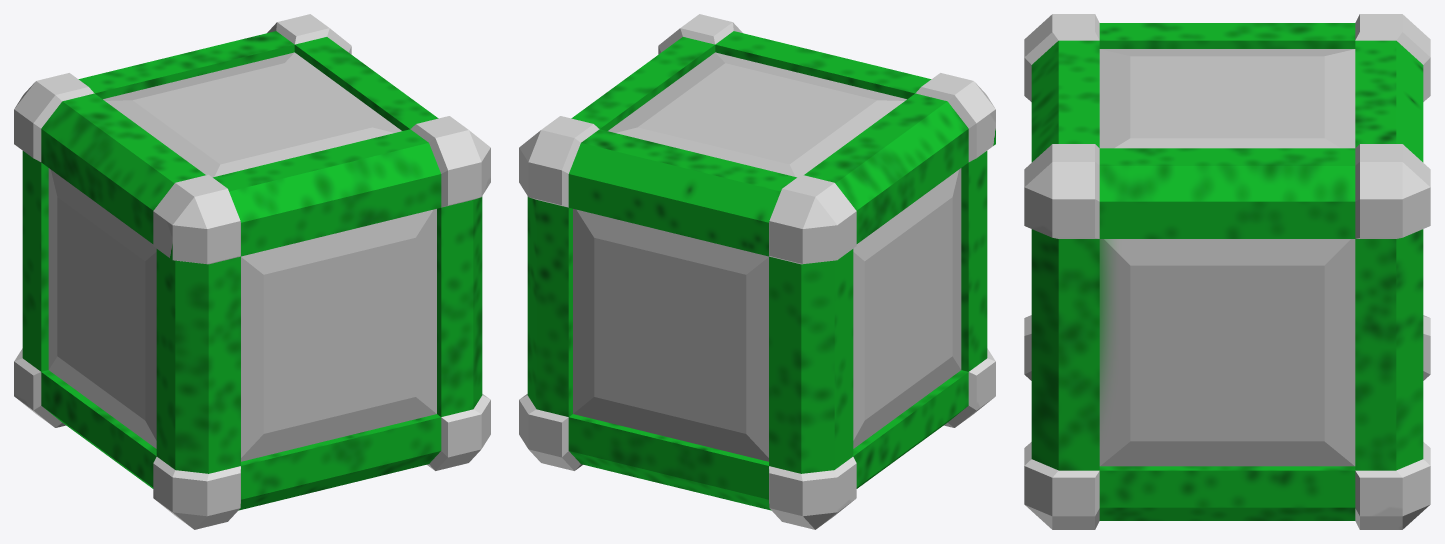
The model's file is crate.glb.
3 renders of one model, left to right at view 1: azimuth 30°, elevation 25°; view 2: azimuth 150°, elevation 25°; view 3: azimuth 270°, elevation 25°, orthographic. The views are drawn at different scales.
Visible parts, largest first — view 1: Cube.001; view 2: Cube.001; view 3: Cube.001.
Part boxes in pixels (left/top/right/bottom): Cube.001: left=14, top=14, right=490, bottom=529; Cube.001: left=519, top=14, right=995, bottom=529; Cube.001: left=1024, top=14, right=1430, bottom=529.
Bounding box in the file's own units: 1.44 × 1.44 × 1.44.
Materials: 1 (1 with a texture image).
